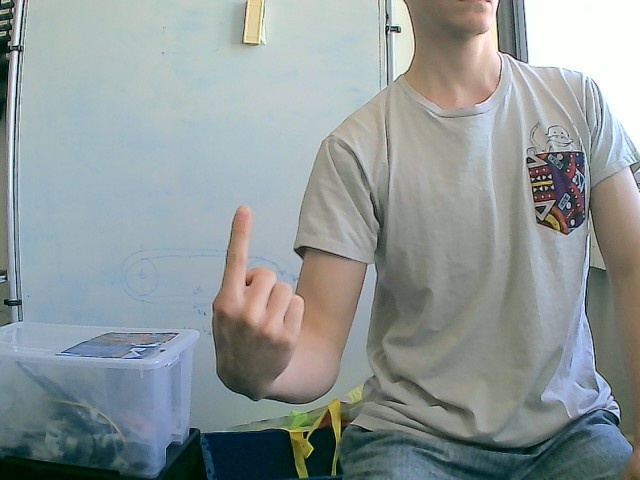up: (210, 204, 306, 402)
